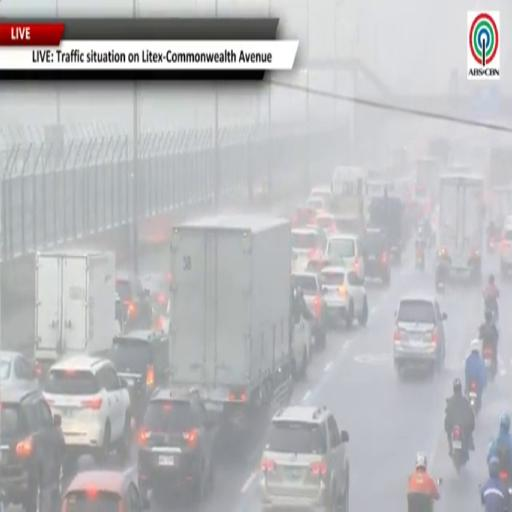car: (260, 406, 349, 511), (44, 356, 131, 462), (138, 388, 217, 501), (0, 387, 64, 511), (110, 330, 169, 422), (393, 294, 447, 375), (62, 470, 149, 511), (321, 267, 368, 328), (292, 271, 326, 348), (116, 272, 152, 329), (325, 233, 365, 278), (291, 304, 314, 379), (362, 229, 390, 284), (0, 350, 38, 389), (291, 229, 324, 270), (141, 274, 171, 315), (500, 220, 511, 276), (291, 206, 315, 228), (306, 255, 335, 273), (115, 294, 127, 333), (316, 213, 336, 235), (306, 197, 328, 215), (310, 185, 332, 202)
motorcycle: (451, 426, 467, 473), (483, 343, 497, 380), (408, 492, 434, 511), (499, 469, 511, 510), (500, 472, 511, 510), (435, 262, 448, 293), (468, 381, 479, 415), (484, 297, 498, 323), (415, 243, 425, 269), (487, 235, 496, 252)
truck: (170, 215, 292, 433), (35, 251, 115, 379), (437, 173, 484, 281), (330, 166, 366, 234), (368, 195, 404, 263), (415, 157, 441, 214), (488, 147, 511, 188)
